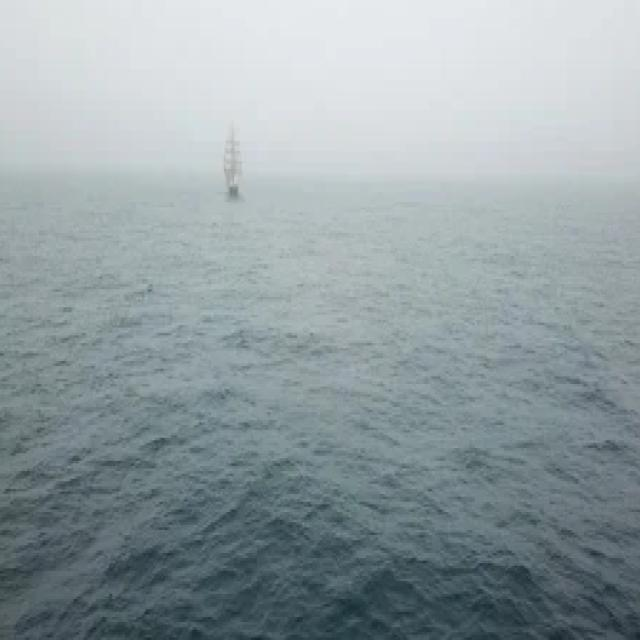fishing boat: (224, 132, 247, 205)
